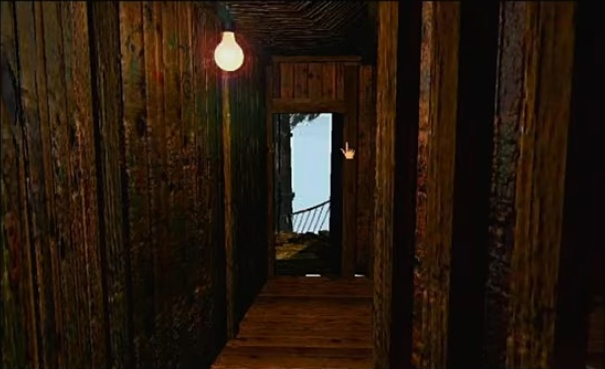Pointer: (338, 138, 359, 161)
